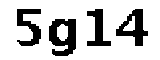1: (81, 7, 113, 51)
4: (113, 7, 151, 49)
5: (11, 4, 45, 50)
g: (45, 15, 82, 59)
